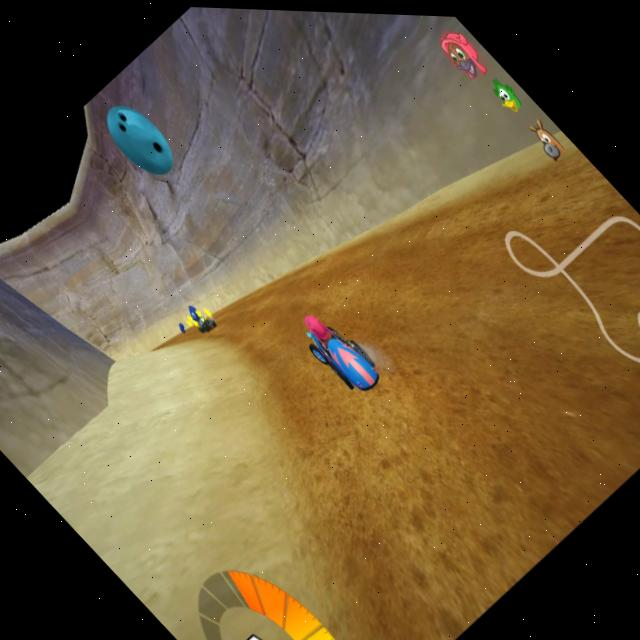nitro: (173, 319, 192, 338)
off_track: (0, 253, 280, 551)
player_kart: (295, 304, 388, 402)
track: (324, 192, 586, 463), (218, 250, 327, 361)
